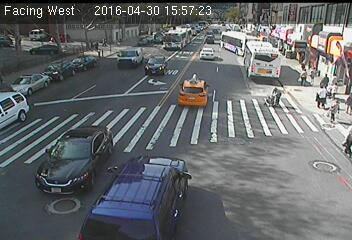neg: (147, 2, 178, 44), (172, 162, 203, 204), (78, 106, 102, 138), (323, 17, 346, 48), (261, 122, 284, 153), (113, 8, 136, 38), (50, 10, 68, 34), (27, 58, 42, 78), (78, 39, 93, 58), (18, 26, 32, 45)
